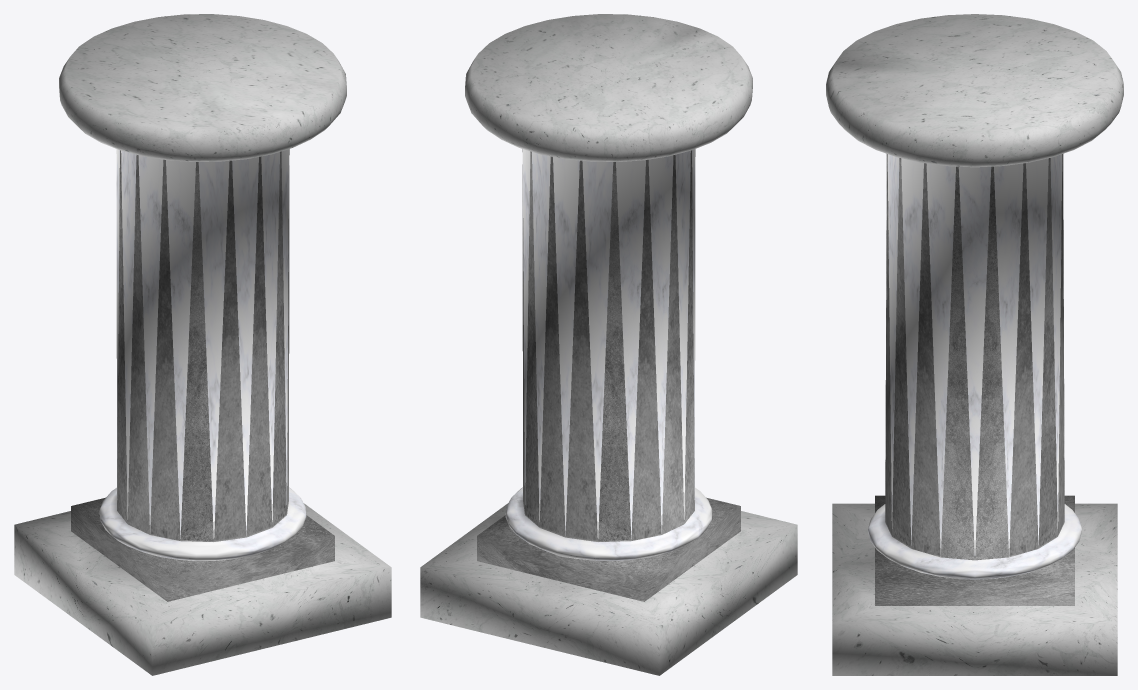
The model's file is pilier.glb.
3 renders of one model, left to right at view 1: azimuth 30°, elevation 25°; view 2: azimuth 150°, elevation 25°; view 3: azimuth 270°, elevation 25°, orthographic. The views are drawn at different scales.
Parts seen in each view (by area): view 1: Plan; view 2: Plan; view 3: Plan.
Part boxes in pixels (x1,y1,x2,y2): Plan: (14,14,391,675); Plan: (420,14,797,675); Plan: (826,14,1123,675).
Bounding box in the file's own units: 1 × 2.01 × 1.
3 materials, 3 textured.
